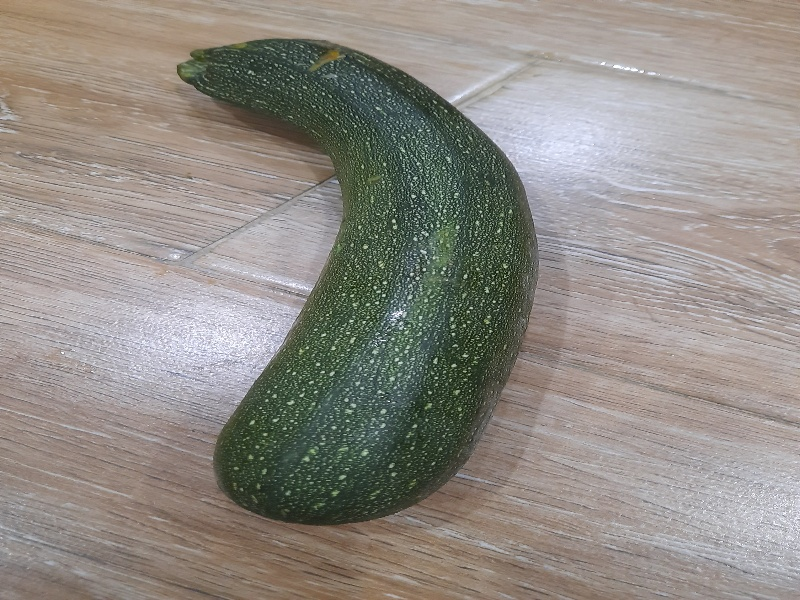vege: (168, 22, 540, 542)
